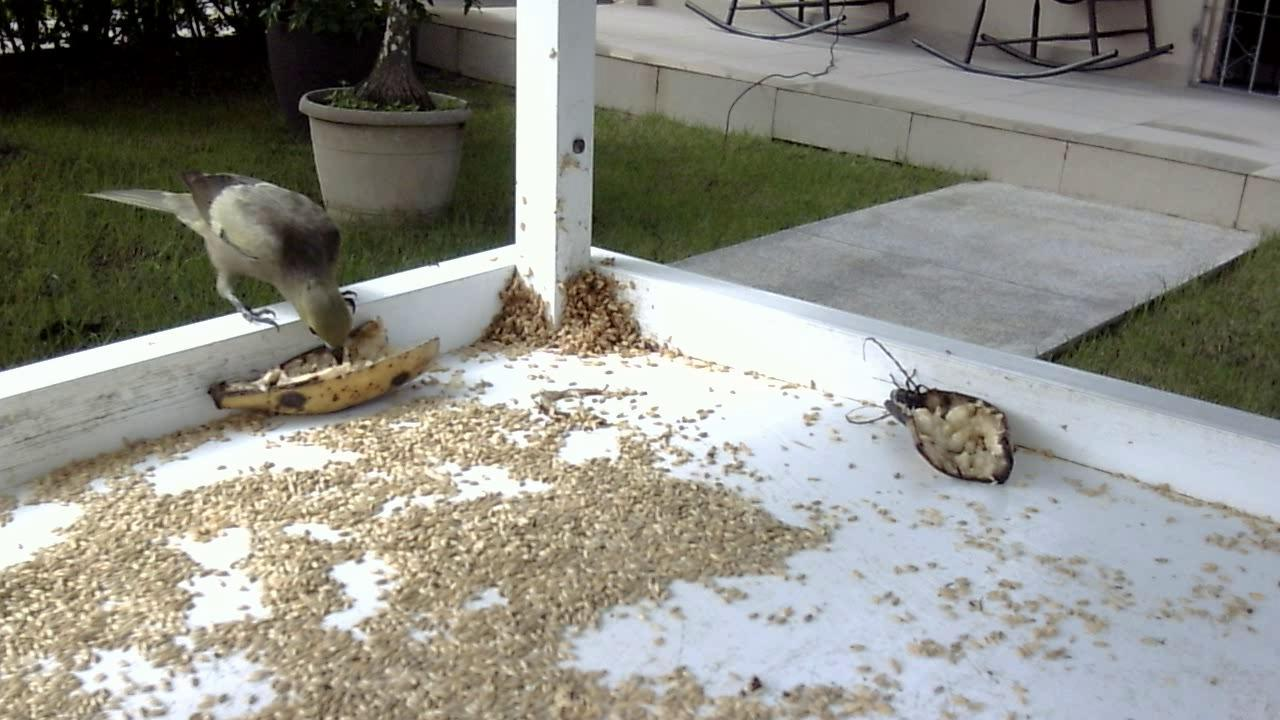sanhaco_do_coqueiro: (83, 155, 368, 382)
